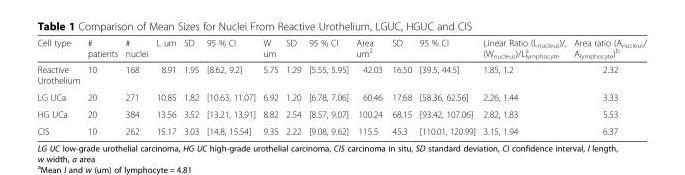table: (36, 36, 645, 136)
table column: (478, 36, 569, 136), (569, 36, 645, 136), (415, 36, 478, 136), (202, 36, 258, 136), (36, 36, 83, 136), (304, 36, 351, 136), (83, 36, 121, 136), (351, 36, 386, 136), (121, 36, 151, 136), (386, 36, 415, 136), (151, 36, 179, 136), (179, 36, 202, 136), (258, 36, 281, 136), (281, 36, 304, 136)
table column header: (36, 36, 645, 61)
table row: (36, 61, 645, 88), (36, 36, 645, 61), (36, 88, 645, 105), (36, 105, 645, 122), (36, 122, 645, 136)
